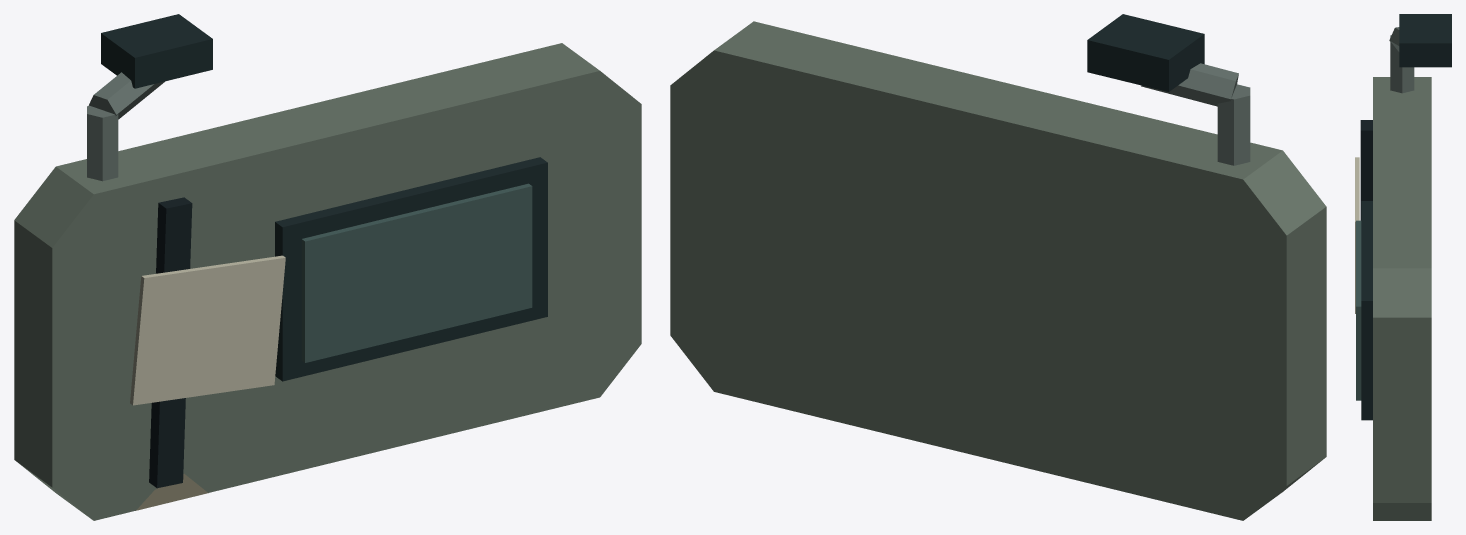
File: sagging-sun-visor.glb
3 renders of one model, left to right at view 1: azimuth 30°, elevation 25°; view 2: azimuth 150°, elevation 25°; view 3: azimuth 270°, elevation 25°, orthographic. The views are drawn at different scales.
Visible parts, largest first — view 1: sagging-sun-visor; view 2: sagging-sun-visor; view 3: sagging-sun-visor.
Part boxes in pixels (x1,y1,x2,y2): sagging-sun-visor: [14, 14, 641, 520]; sagging-sun-visor: [670, 14, 1326, 520]; sagging-sun-visor: [1355, 14, 1451, 520].
Bounding box in the file's own units: 0.34 × 0.2405 × 0.0625.
